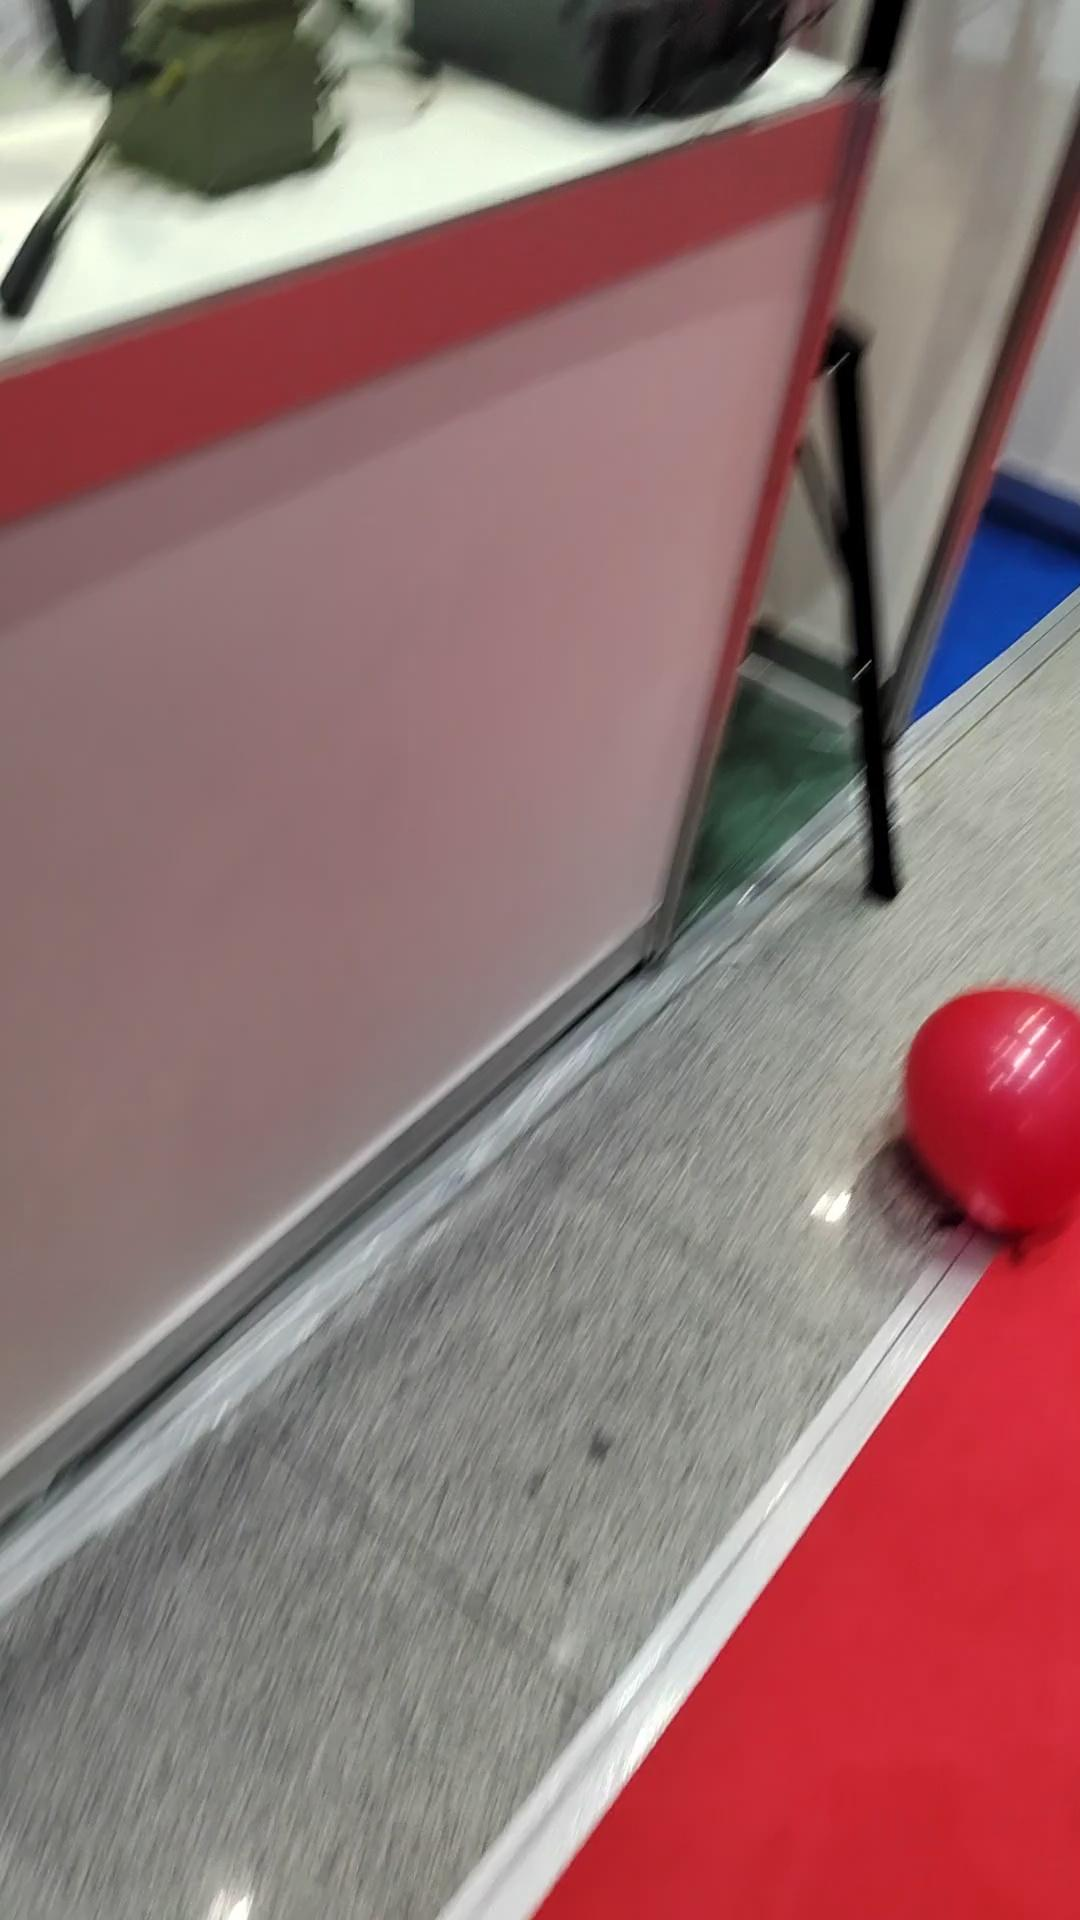red: (893, 984, 1080, 1236)
